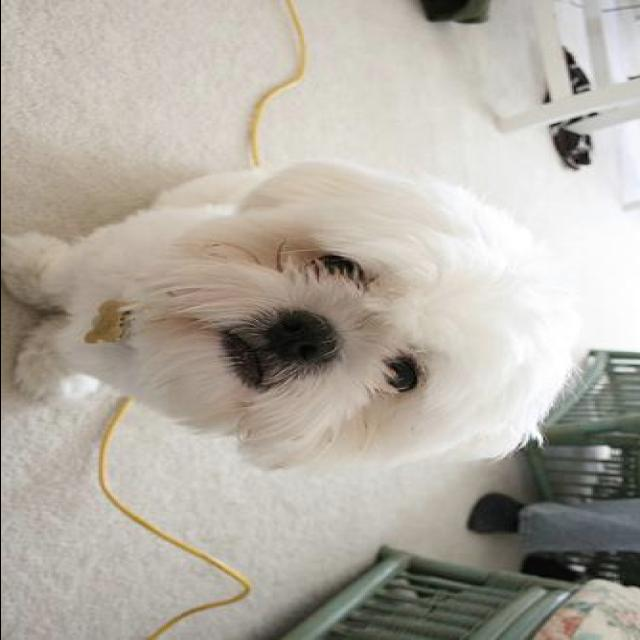shih_tzu: (2, 162, 579, 474)
